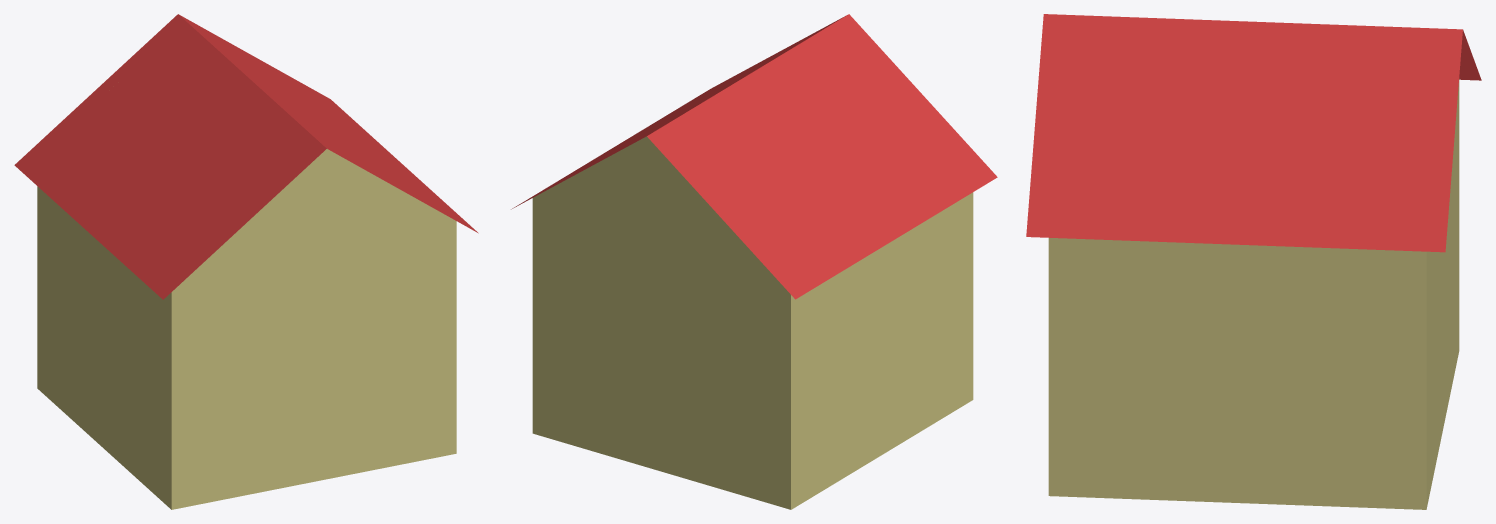
3 renders of one model, left to right at view 1: azimuth 30°, elevation 25°; view 2: azimuth 150°, elevation 25°; view 3: azimuth 270°, elevation 25°, orthographic. The views are drawn at different scales.
Size of the model in its own units: 10.85 by 10.92 by 10.72.
